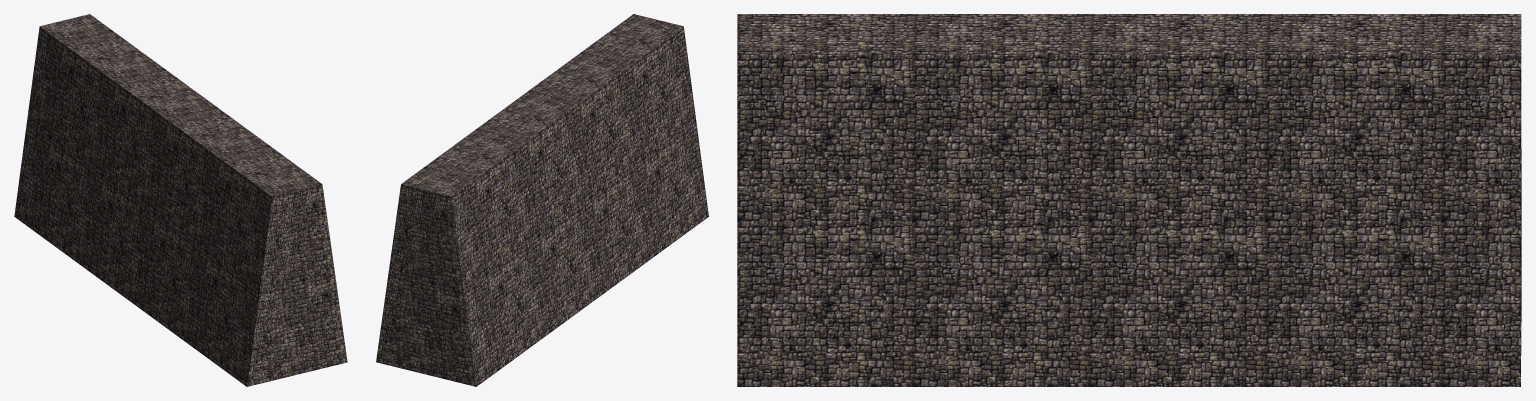
File: pir_m_bld_frt_innerWall_200.fbx
3 views of the same model, side by side, from view 1: azimuth 30°, elevation 25°; view 2: azimuth 150°, elevation 25°; view 3: azimuth 270°, elevation 25° (orthographic). The views are drawn at different scales.
Parts seen in each view (by area): view 1: lod_high; view 2: lod_high; view 3: lod_high.
Boxes of the visible parts, x1=… form: lod_high: x1=14, y1=14, x2=347, y2=386; lod_high: x1=376, y1=14, x2=708, y2=386; lod_high: x1=737, y1=14, x2=1521, y2=386.
Bounding box in the file's own units: 5000 × 8750 × 20009.
Materials: 1 (1 with a texture image).
